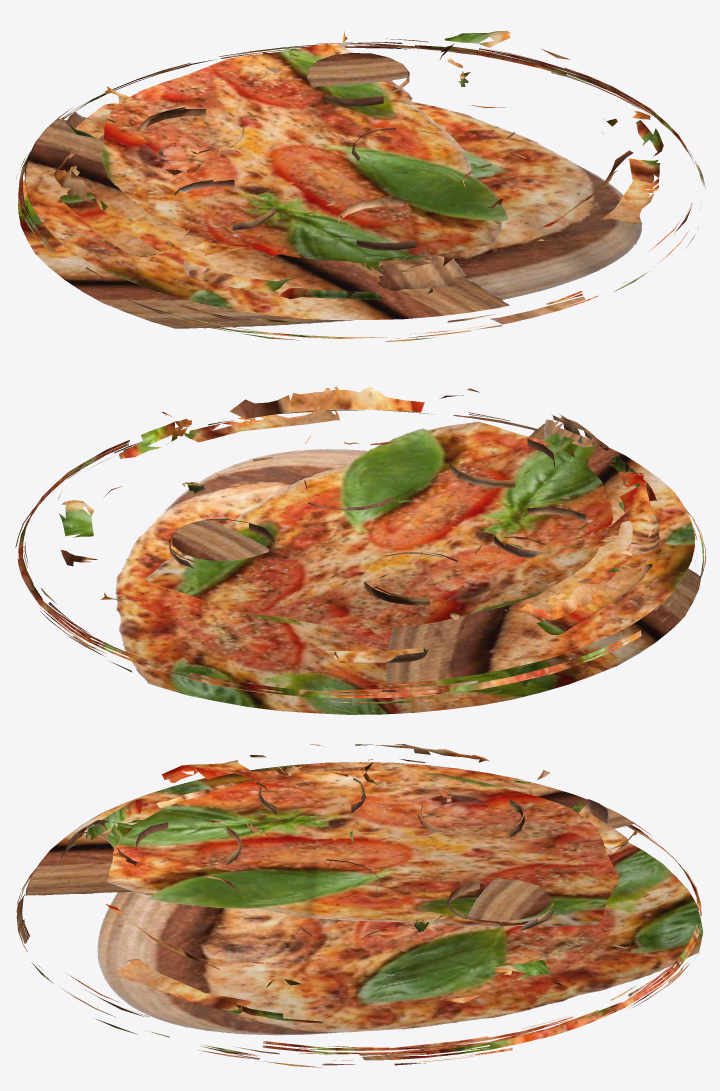
The model's file is pizza_margherita.fbx.
3 views of the same model, one above another, from view 1: azimuth 30°, elevation 25°; view 2: azimuth 150°, elevation 25°; view 3: azimuth 270°, elevation 25° (orthographic).
Visible parts, largest first — view 1: meshes[0]; view 2: meshes[0]; view 3: meshes[0].
Boxes of the visible parts, x1,y1,x2,y2 form: meshes[0]: [16, 31, 705, 341]; meshes[0]: [15, 386, 705, 714]; meshes[0]: [16, 744, 703, 1067].
Size of the model in its own units: 99.8 by 13.87 by 99.8.
